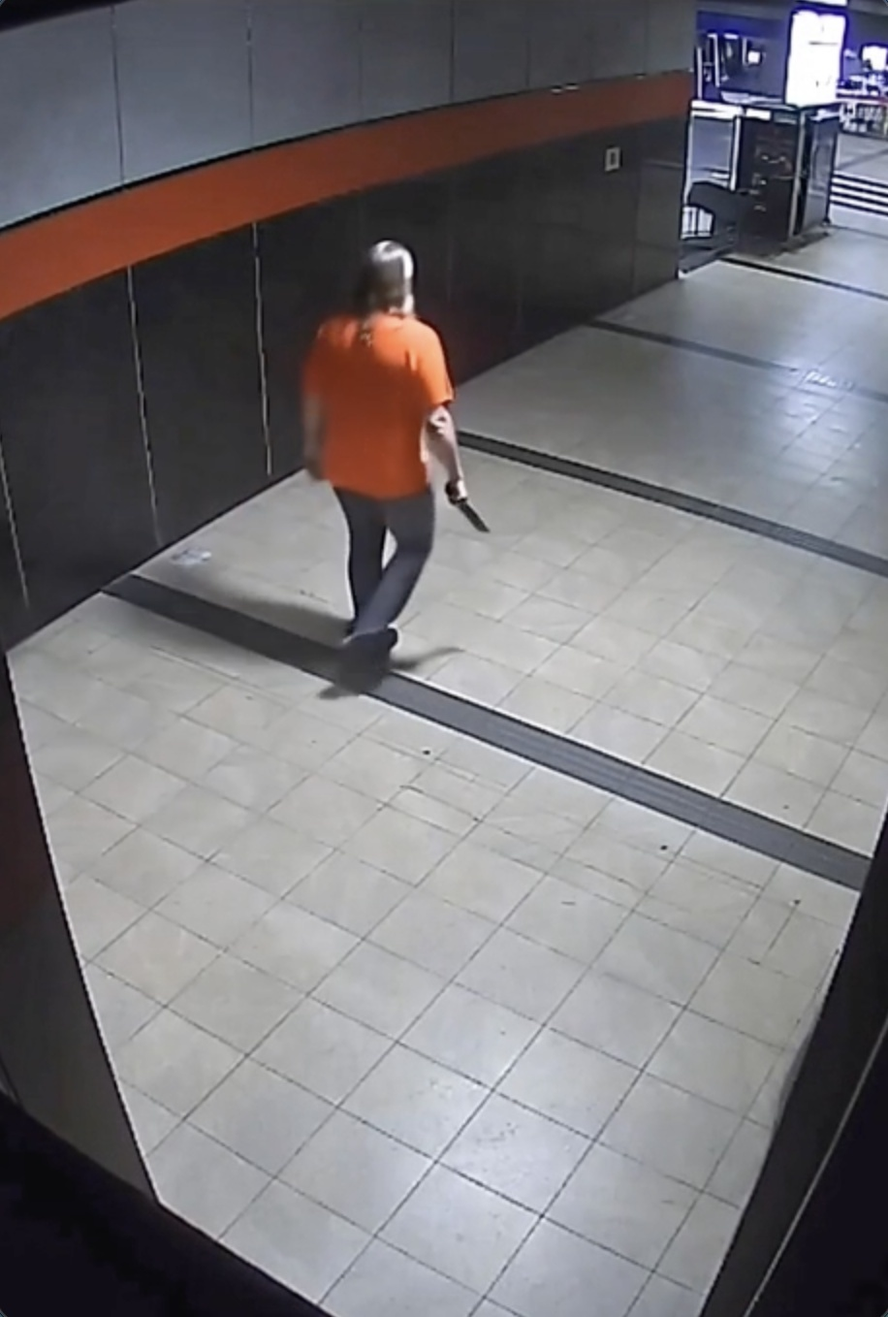knife: (451, 484, 497, 543)
person: (272, 231, 471, 667)
